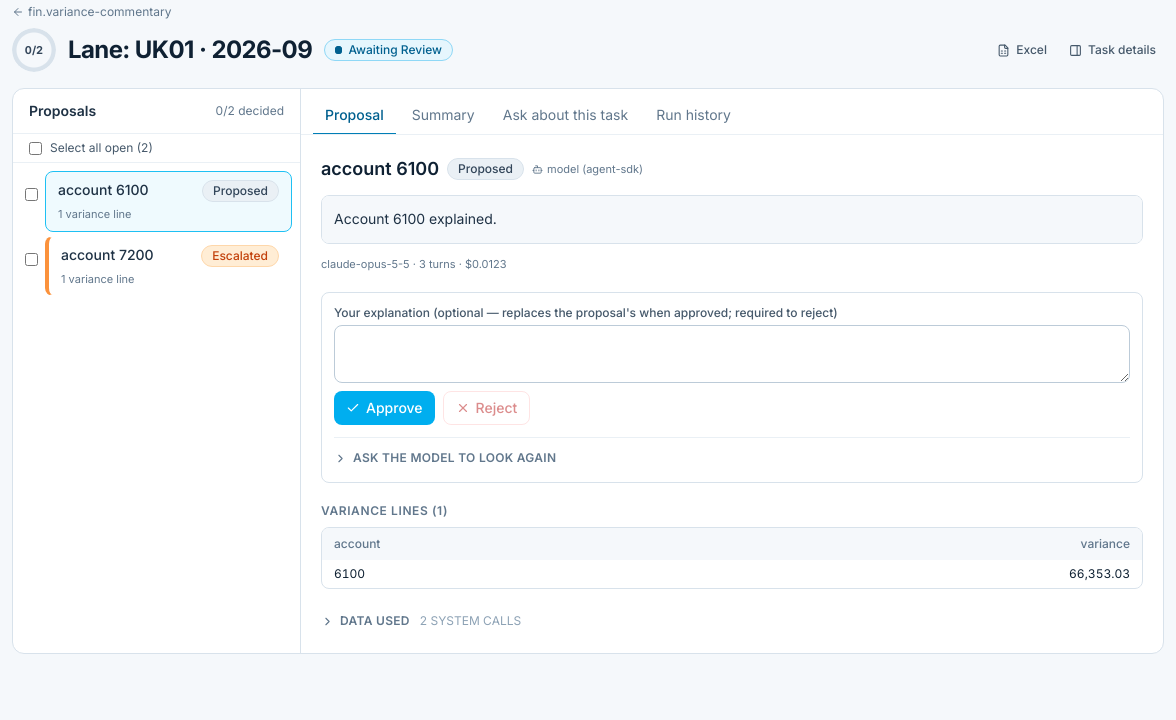
Test: TaskWorkspace › shows the run step by step
Click the tab "Run history": (694, 116) [644,97,743,135]
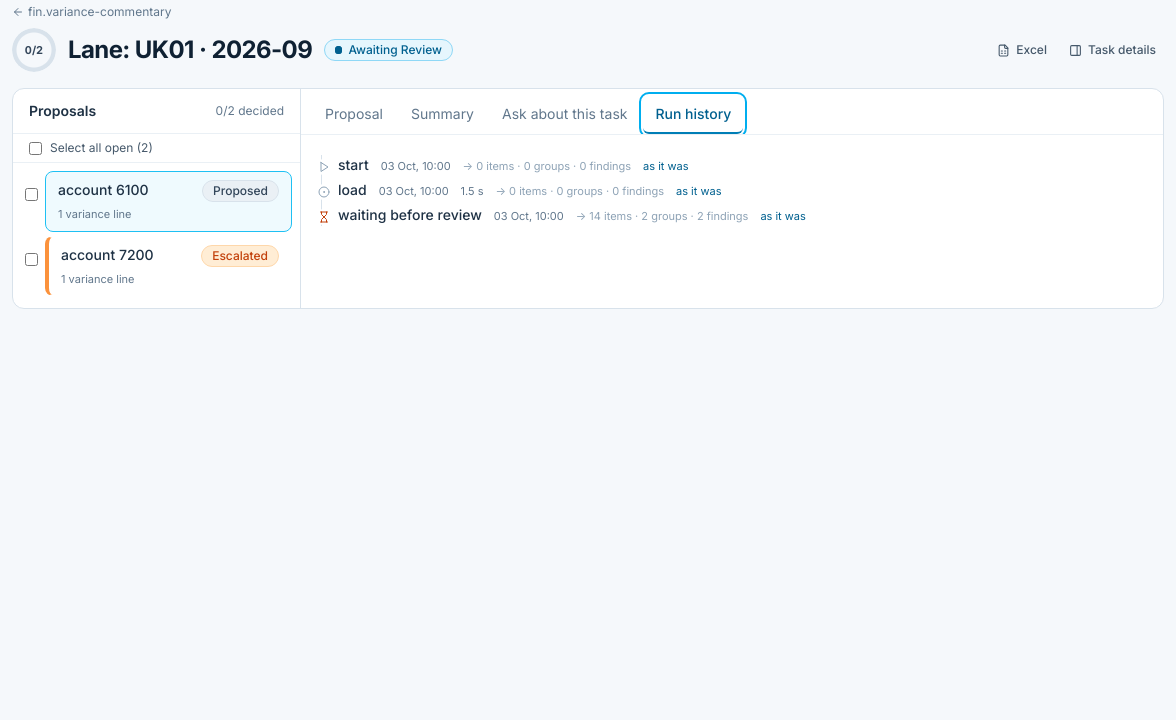
Now the text "load" is shown, box [338,180,367,200]
Now the text "1.5 s" is shown, box [461,181,484,201]
Now the text "waiting before review" is shown, box [338,205,482,225]
